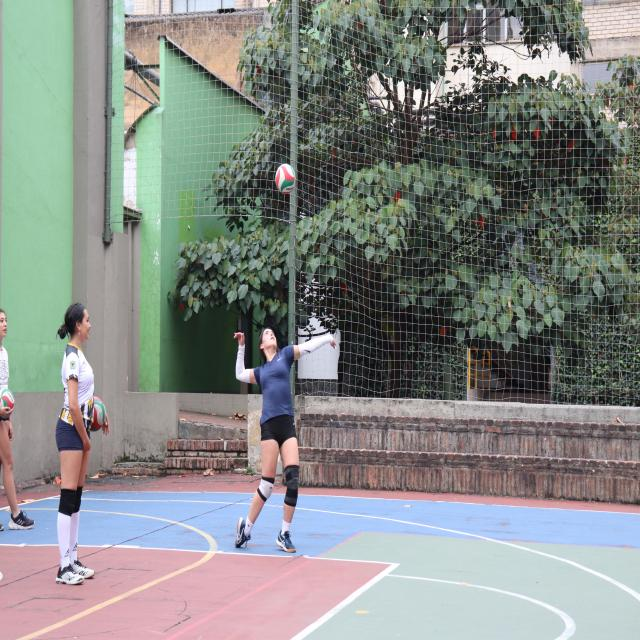volleyball: (274, 163, 296, 195), (90, 396, 106, 432), (0, 387, 15, 411)
